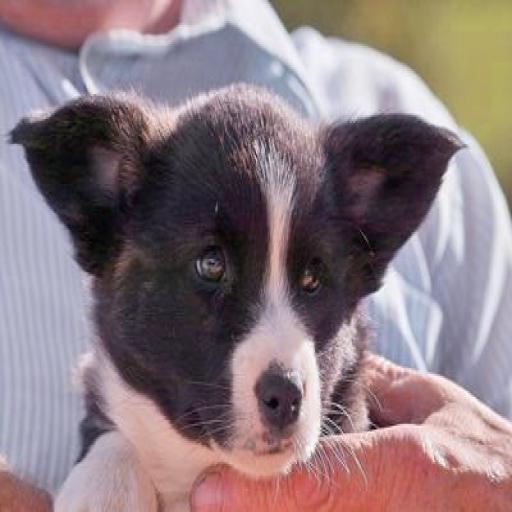dog_face: (5, 86, 458, 456)
